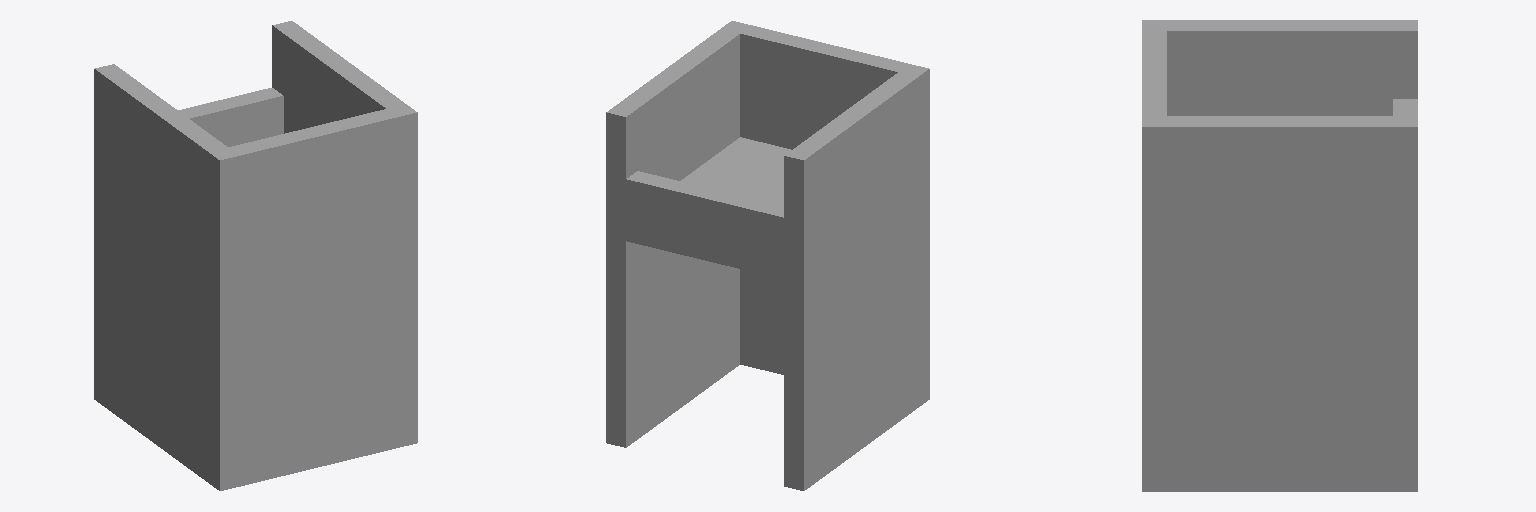
URDF robot description (part_box):
<robot name="part_box">
  <link name="part_box_base_link">
    <visual>
      <origin rpy="0 0 3.14159" xyz="0.2 -0.52 -0.16"/>
      <geometry>
        <mesh filename="../meshes/part_box.obj"  scale="0.0005 0.0005 0.0005"/>
      </geometry>
      <material name="tray_material">
        <color rgba="0.7 0.7 0.7 1"/>
      </material>
    </visual>
    <collision>
      <origin rpy="0 0 3.14159" xyz="0.2 -0.52 -0.16"/>
      <geometry>
        <mesh filename="../meshes/part_box.obj" scale="0.0005 0.0005 0.0005"/>
      </geometry>
    </collision>
  </link>
</robot>

--- Facts derived from the render (not from the file) ---
3 views of the same robot in one strip: view 1: azimuth 30°, elevation 25°; view 2: azimuth 150°, elevation 25°; view 3: azimuth 270°, elevation 25° (orthographic).
Robot: part_box — 1 links, 0 joints (none); root link part_box_base_link; default pose: every joint at zero.
Links seen in each view (by area): view 1: part_box_base_link; view 2: part_box_base_link; view 3: part_box_base_link.
Boxes of the visible links, left/top/right/bottom form: part_box_base_link: left=94, top=21, right=417, bottom=490; part_box_base_link: left=606, top=21, right=929, bottom=490; part_box_base_link: left=1142, top=20, right=1417, bottom=491.
Bounding box of the posed robot: 0.25 × 0.275 × 0.4 m (x, y, z).
Meshes: 1 distinct files referenced, 1 mesh visuals loaded (1 OBJ).